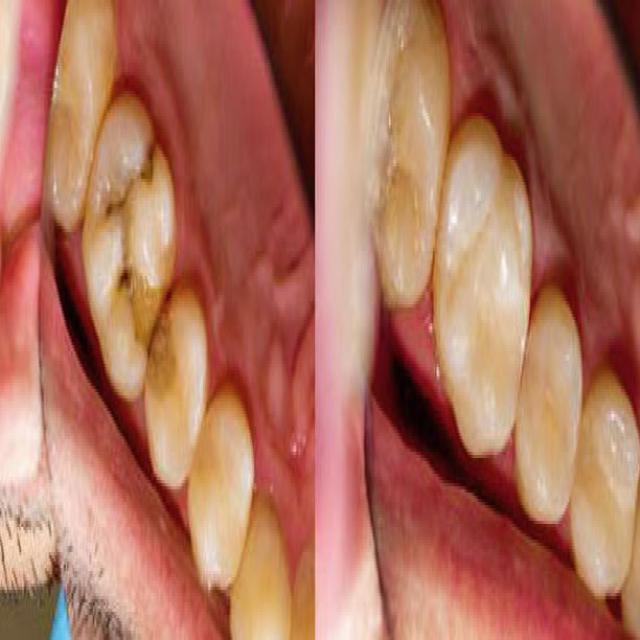caries: (142, 283, 188, 425), (96, 132, 160, 225), (113, 247, 152, 355)
